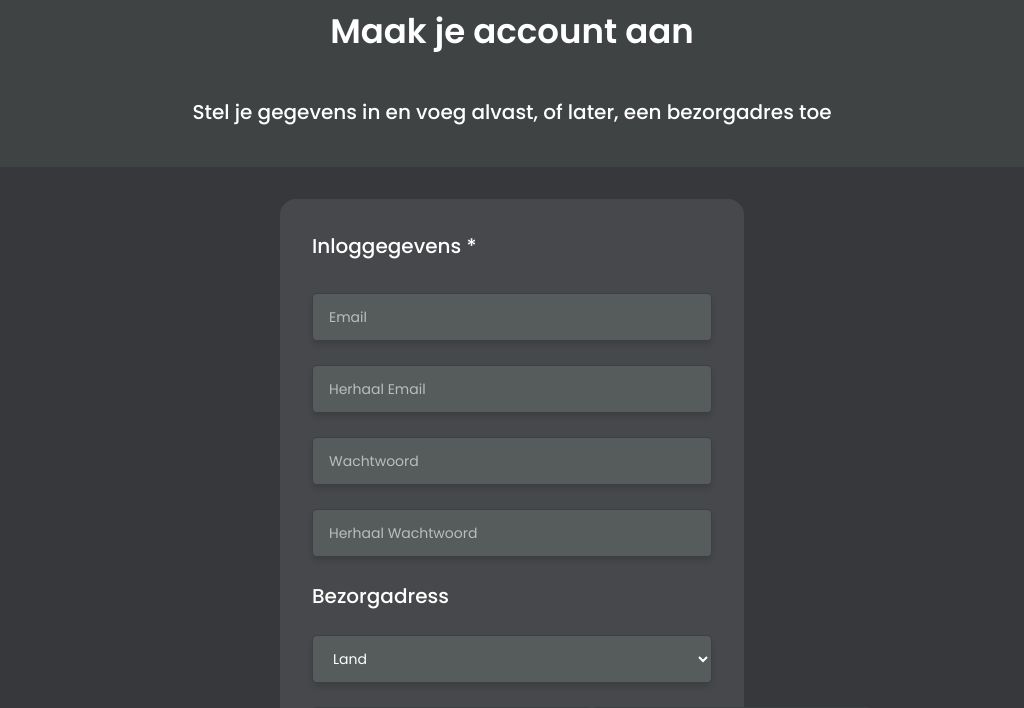
Test: RegisterPage › toont fout als wachtwoorden niet overeenkomen
Type "wachtwoord123" into the password field with placeholder "Wachtwoord" at (512, 461), box x1=312 y1=437 x2=712 y2=485
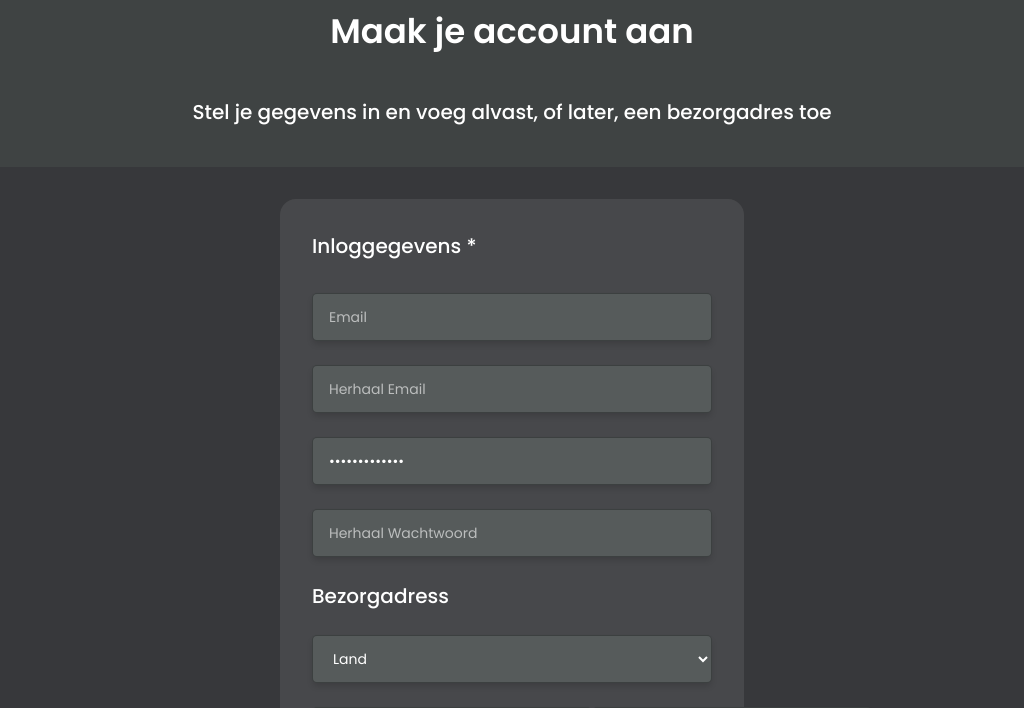
Type "anders123" into the password field with placeholder "Herhaal Wachtwoord" at (512, 533), box x1=312 y1=509 x2=712 y2=557
(page scrolled)
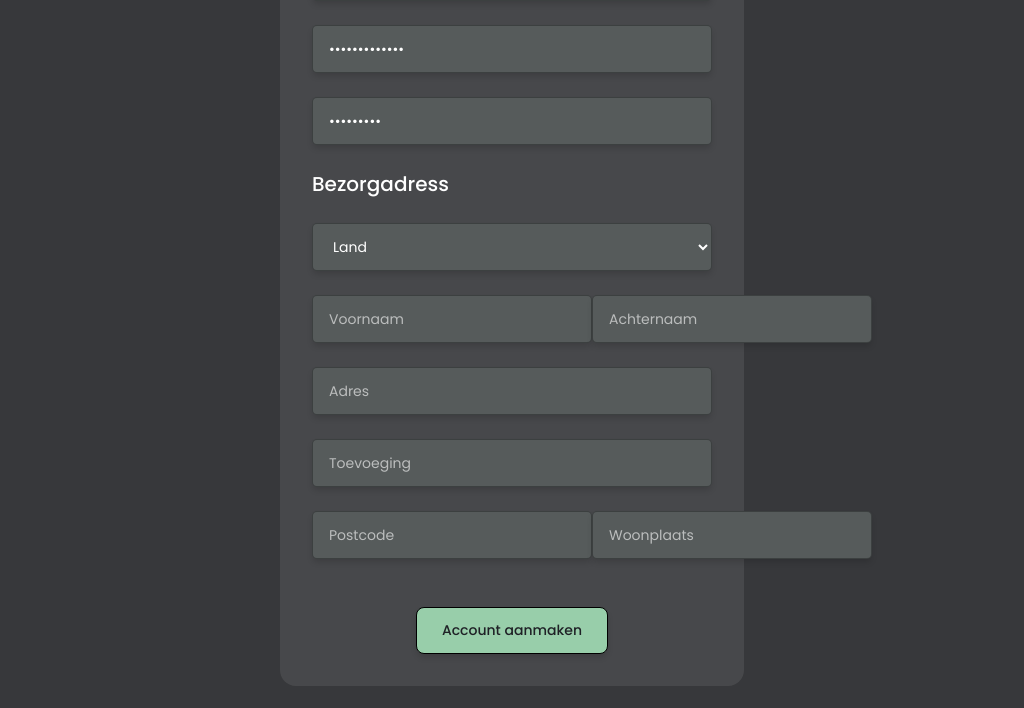
Click the button "Account aanmaken" at (512, 630), box x1=416 y1=607 x2=608 y2=654
(page scrolled)
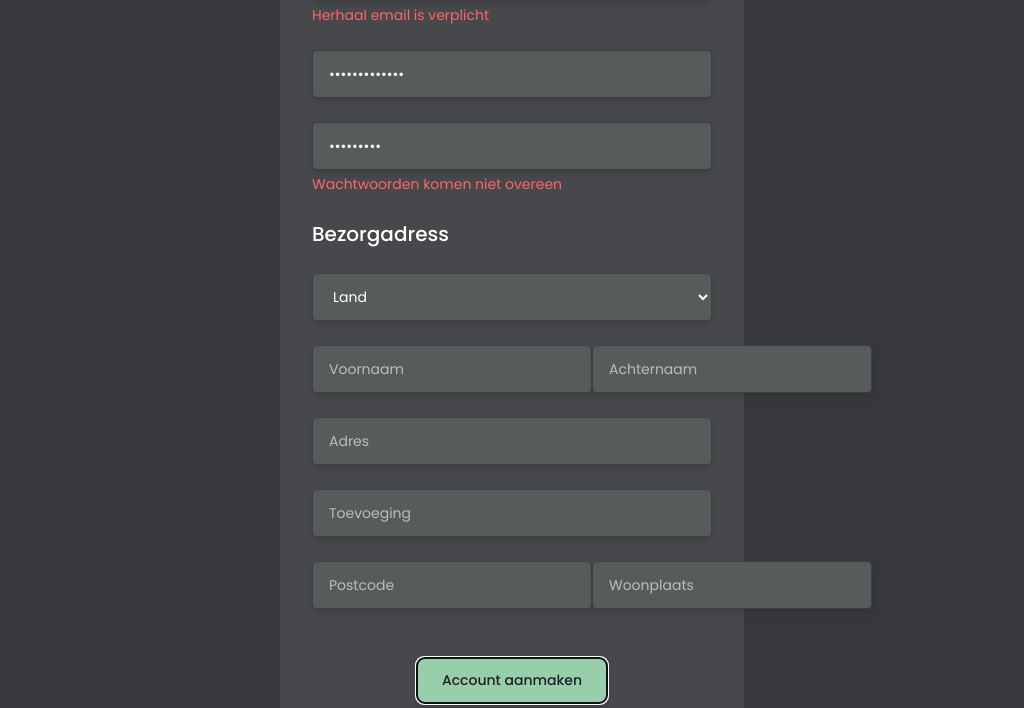
expect the text "Wachtwoorden komen niet overeen" is shown: met, box x1=312 y1=174 x2=562 y2=194
